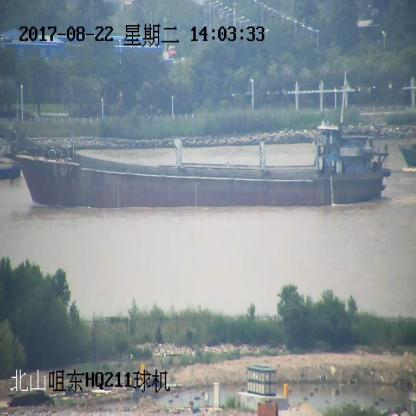Fishing Boat: (1, 148, 24, 180)
